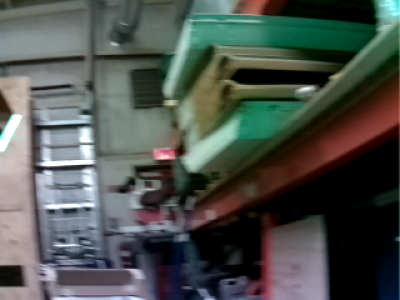target: (1, 113, 23, 153)
